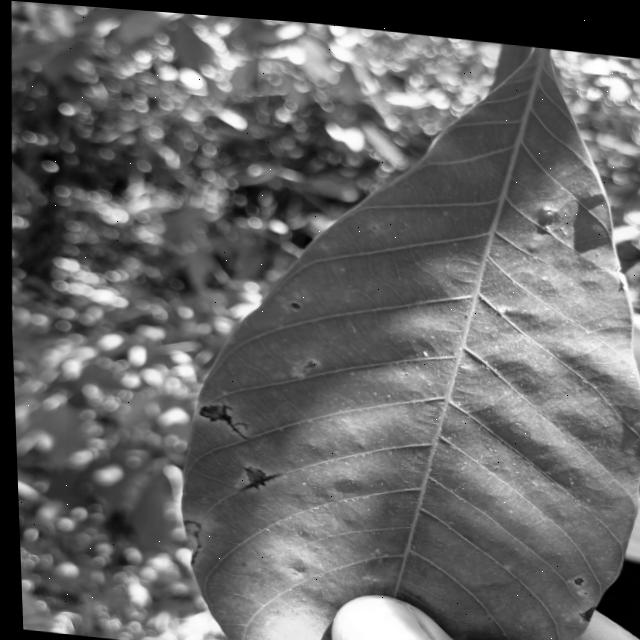Corynespora: (207, 399, 249, 437), (236, 466, 279, 492)
Leaf-Blight: (178, 517, 198, 561), (573, 595, 592, 613), (570, 568, 580, 576)
